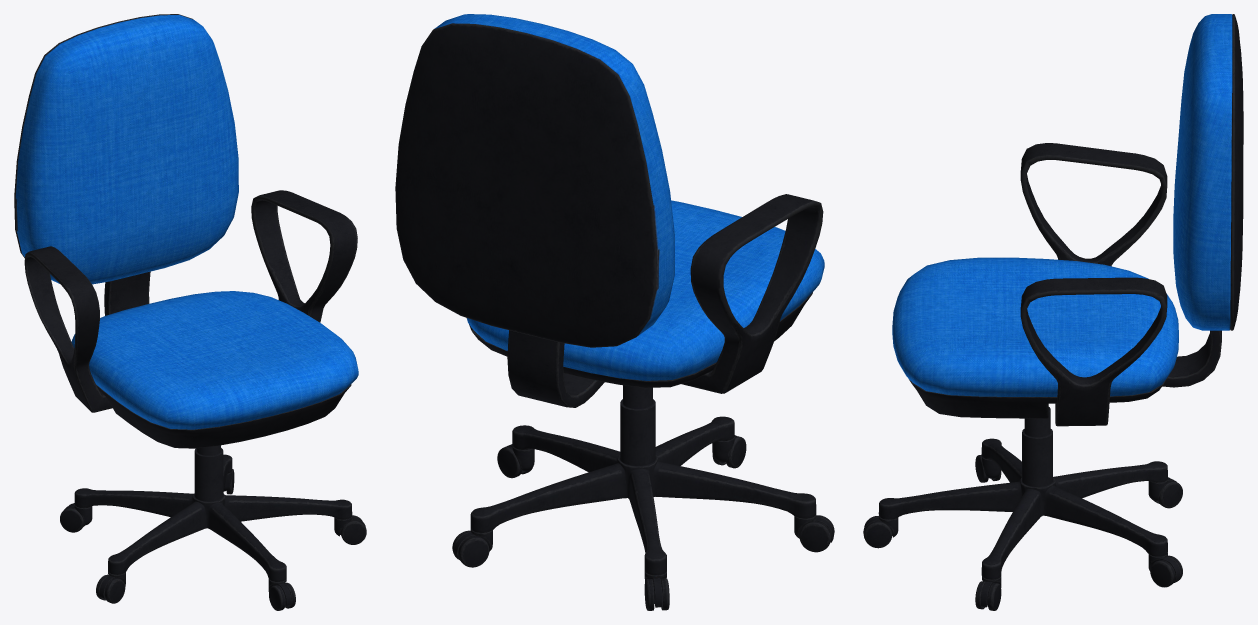
The model's file is office_chair.fbx.
3 renders of one model, left to right at view 1: azimuth 30°, elevation 25°; view 2: azimuth 150°, elevation 25°; view 3: azimuth 270°, elevation 25°, orthographic. The views are drawn at different scales.
Visible parts, largest first — view 1: defaultMaterial; view 2: defaultMaterial; view 3: defaultMaterial.
Boxes of the visible parts, x1,y1,x2,y2 form: defaultMaterial: (14,14,366,610); defaultMaterial: (395,14,834,610); defaultMaterial: (863,14,1243,610).
Size of the model in its own units: 67.82 by 106 by 72.17.
